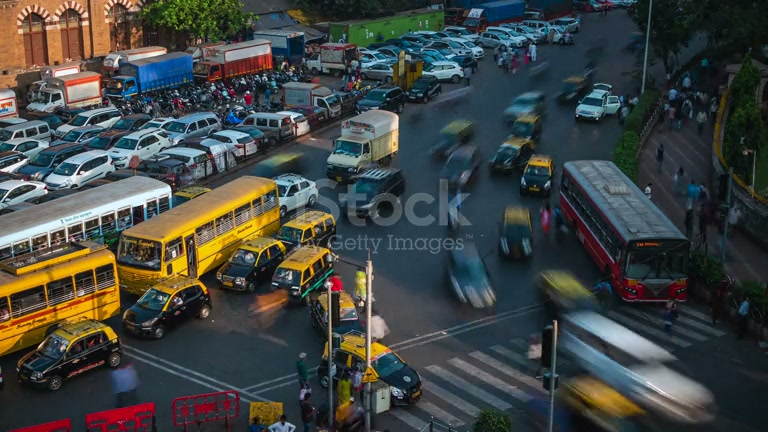bus: (114, 174, 282, 296), (556, 159, 691, 307), (1, 172, 173, 277), (1, 240, 121, 359), (102, 47, 194, 110), (326, 109, 400, 182), (25, 72, 103, 125), (189, 39, 274, 84)
car: (15, 316, 123, 392), (332, 336, 424, 405), (122, 276, 212, 340), (215, 236, 291, 292), (270, 244, 337, 303), (444, 241, 498, 310), (344, 166, 406, 226), (42, 150, 116, 191), (277, 208, 337, 249), (496, 203, 535, 261), (438, 144, 482, 194), (107, 131, 163, 170), (274, 172, 319, 214), (432, 118, 477, 160), (489, 137, 536, 175), (502, 90, 547, 128), (518, 153, 556, 197), (0, 179, 49, 213), (210, 128, 260, 161), (574, 90, 620, 123), (356, 85, 405, 113)
pedestrian: (539, 201, 552, 237)
